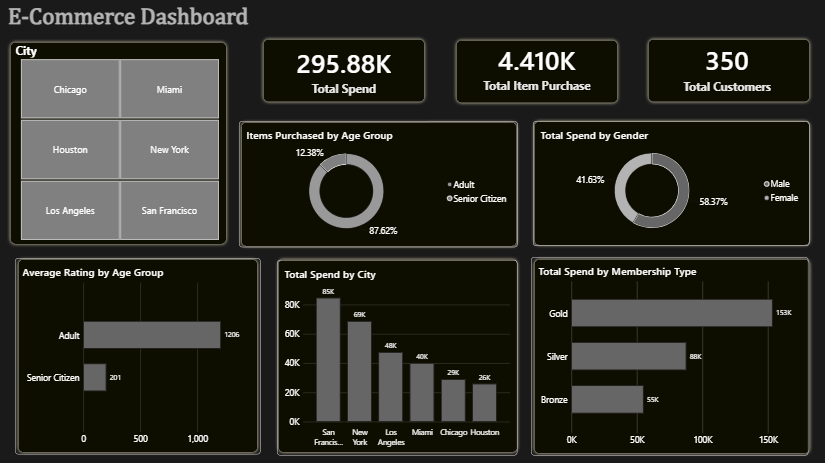

This screenshot's page, from the dashboard's own definition file:
{"tool":"powerbi","page":{"name":"Page 1","canvas":[1920,1080],"ordinal":0},"visuals":[{"type":"shape","box":[22.7,103.3,511.5,478.7],"z":0},{"type":"shape","box":[1227.1,602.2,647.6,461.1],"z":1000},{"type":"shape","box":[637.5,602.2,564.4,458.6],"z":2000},{"type":"shape","box":[1227.1,284.7,647.6,299.8],"z":3000},{"type":"barChart","title":"Total Spend by Membership Type","fields":{"Category":["E-commerce Customer Behavior.Membership Type"],"Y":["Sum(E-commerce Customer Behavior.Total Spend)"]},"box":[1227.1,604.7,637.5,456.1],"z":4000},{"type":"donutChart","title":"Total Spend by Gender","fields":{"Category":["E-commerce Customer Behavior.Gender"],"Y":["Sum(E-commerce Customer Behavior.Total Spend)"]},"box":[1232.1,292.3,635,287.2],"z":5000},{"type":"clusteredColumnChart","title":"Total Spend by City","fields":{"Category":["E-commerce Customer Behavior.City"],"Y":["Sum(E-commerce Customer Behavior.Total Spend)"]},"box":[642.5,609.8,551.8,448.5],"z":6000},{"type":"shape","box":[554.3,287.2,647.6,299.8],"z":7000},{"type":"donutChart","title":"Items Purchased by Age Group","fields":{"Category":["E-commerce Customer Behavior.Age_Group"],"Y":["Sum(E-commerce Customer Behavior.Items Purchased)"]},"box":[556.9,292.3,640,289.8],"z":8000},{"type":"shape","box":[40.3,602.2,564.4,458.6],"z":9000},{"type":"barChart","title":"Average Rating by Age Group","fields":{"Category":["E-commerce Customer Behavior.Age_Group"],"Y":["Sum(E-commerce Customer Behavior.Average Rating)"]},"box":[40.3,607.2,564.4,451],"z":10000},{"type":"shape","box":[1489.1,95.7,385.5,158.7],"z":11000},{"type":"shape","box":[1048.2,98.3,385.5,158.7],"z":12000},{"type":"shape","box":[604.7,95.7,385.5,158.7],"z":13000},{"type":"cardVisual","fields":{"Data":["E-commerce Customer Behavior.Total Customers"]},"box":[1489.1,83.1,378,173.9],"z":14000},{"type":"cardVisual","fields":{"Data":["Sum(E-commerce Customer Behavior.Items Purchased)"]},"box":[1048.2,90.7,385.5,158.7],"z":15000},{"type":"cardVisual","fields":{"Data":["Sum(E-commerce Customer Behavior.Total Spend)"]},"box":[604.7,98.3,385.5,151.2],"z":16000},{"type":"slicer","fields":{"Values":["E-commerce Customer Behavior.City"]},"box":[35.3,110.9,493.9,456.1],"z":17000},{"type":"textbox","box":[25.2,22.7,617.3,90.7],"z":18000}]}

Visuals, with their boxes in screenshot pixels (x1, y1, x2, y2), scaled from the page's 1920x1080 canvas onto the 825x463 screenshot:
shape: l=10, t=44, r=230, b=250
shape: l=527, t=258, r=806, b=456
shape: l=274, t=258, r=516, b=455
shape: l=527, t=122, r=806, b=251
"Total Spend by Membership Type" barChart: l=527, t=259, r=801, b=455
"Total Spend by Gender" donutChart: l=529, t=125, r=802, b=248
"Total Spend by City" clusteredColumnChart: l=276, t=261, r=513, b=454
shape: l=238, t=123, r=516, b=252
"Items Purchased by Age Group" donutChart: l=239, t=125, r=514, b=250
shape: l=17, t=258, r=260, b=455
"Average Rating by Age Group" barChart: l=17, t=260, r=260, b=454
shape: l=640, t=41, r=805, b=109
shape: l=450, t=42, r=616, b=110
shape: l=260, t=41, r=425, b=109
cardVisual - E-commerce Customer Behavior.Total Customers: l=640, t=36, r=802, b=110
cardVisual - Sum(E-commerce Customer Behavior.Items Purchased): l=450, t=39, r=616, b=107
cardVisual - Sum(E-commerce Customer Behavior.Total Spend): l=260, t=42, r=425, b=107
slicer - E-commerce Customer Behavior.City: l=15, t=48, r=227, b=243
textbox: l=11, t=10, r=276, b=49
